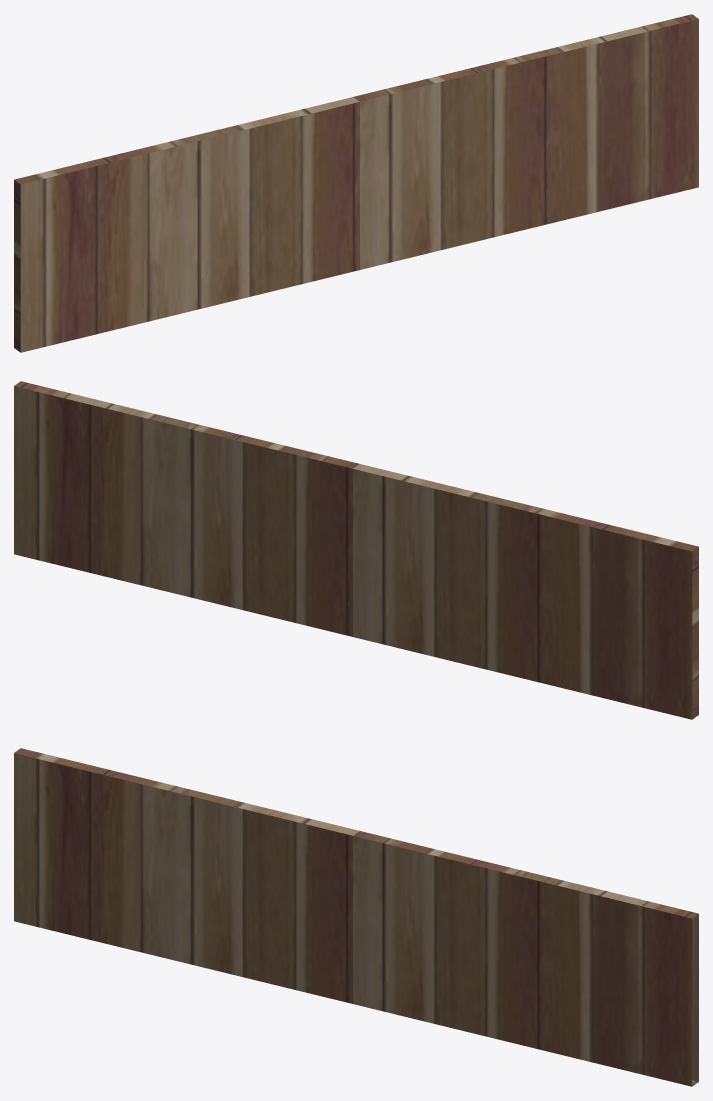
Rendered from Auto_Gate.dae.
The picture shows the model from 3 angles, top to bottom: view 1: azimuth 30°, elevation 25°; view 2: azimuth 150°, elevation 25°; view 3: azimuth 330°, elevation 25°; orthographic projection.
Visible parts, largest first — view 1: Auto_Gate; view 2: Auto_Gate; view 3: Auto_Gate.
Part boxes in pixels (x1,y1,x2,y2): Auto_Gate: (14, 14, 698, 352); Auto_Gate: (14, 381, 698, 719); Auto_Gate: (14, 748, 698, 1086).
Size of the model in its own units: 11.6 by 0.2 by 2.75.
1 material, 1 textured.
